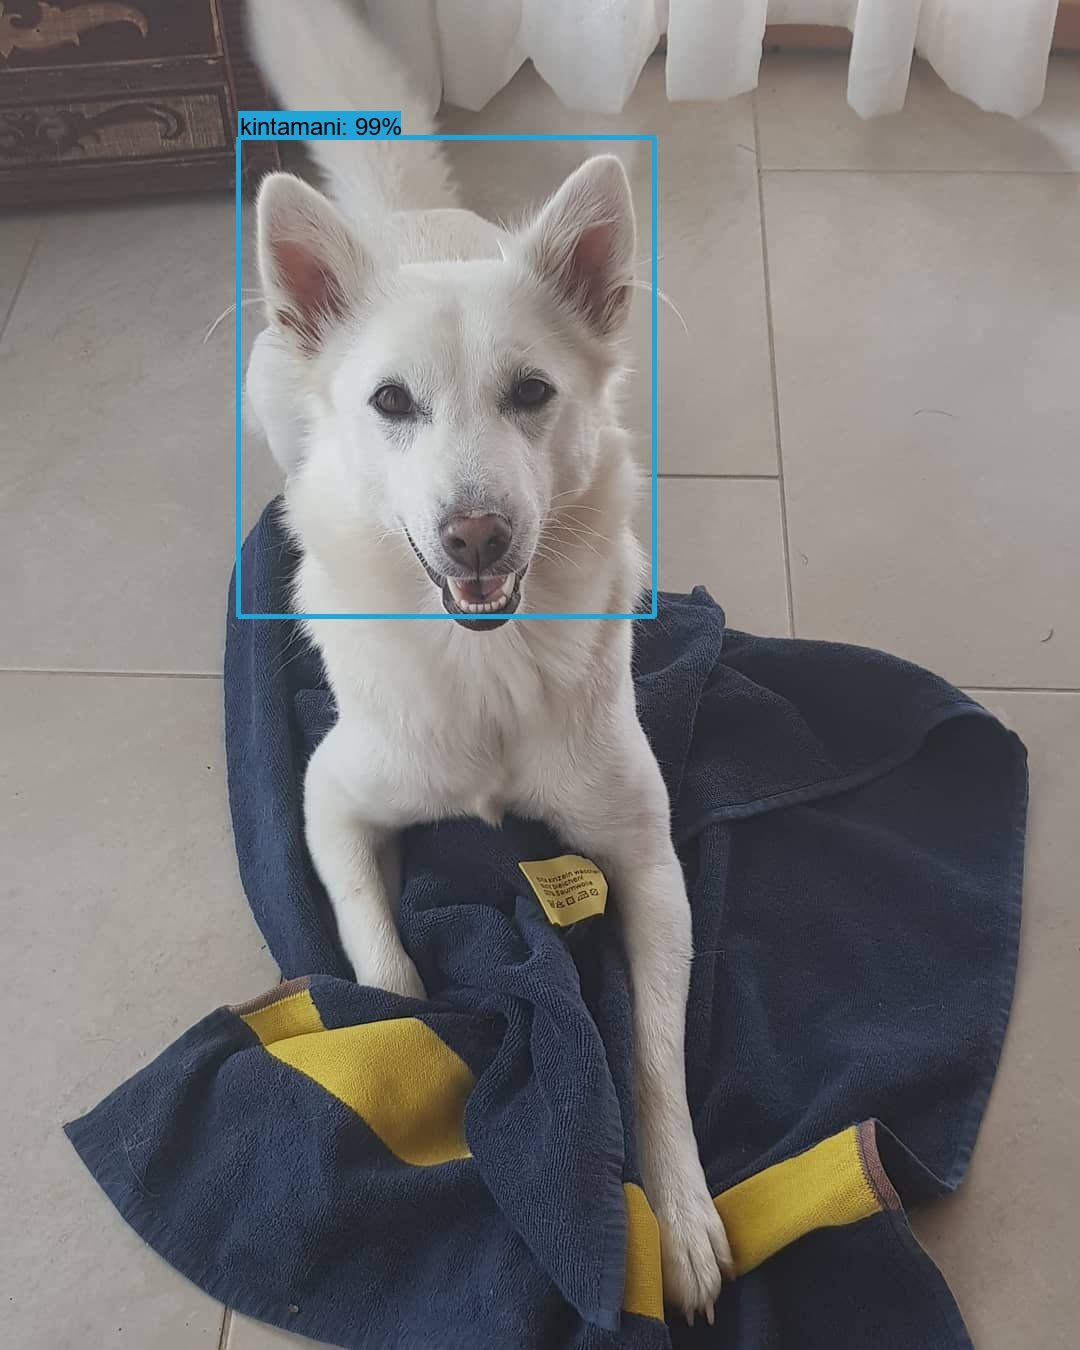kintamani: (218, 144, 656, 642)
